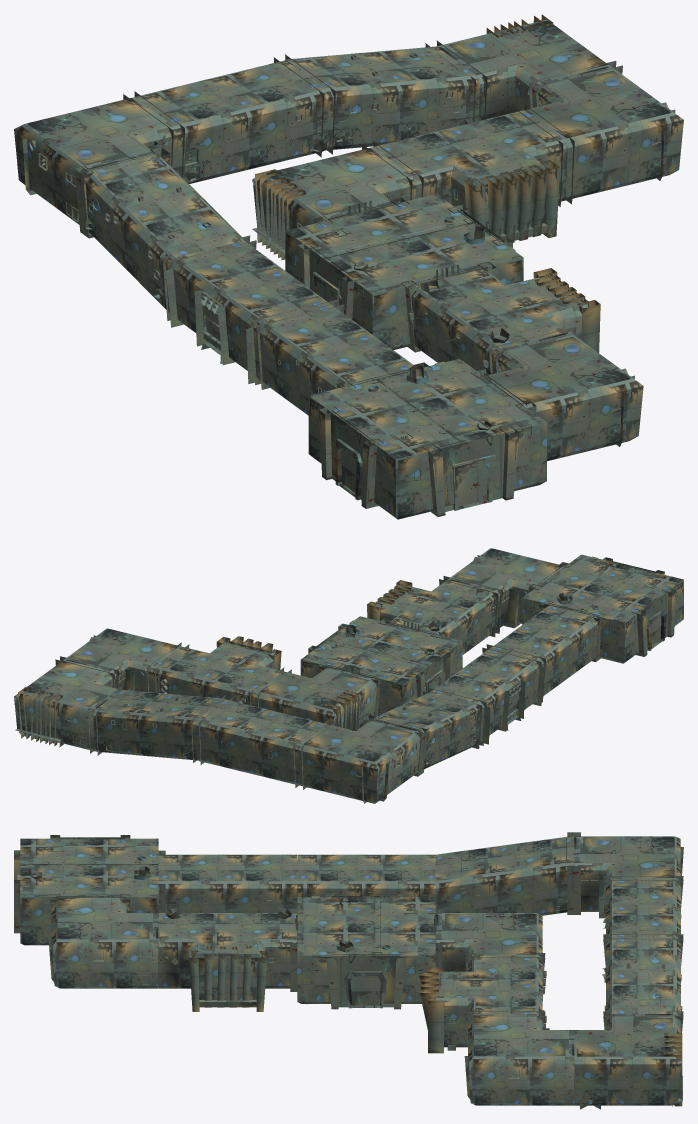
The model's file is Combined_Mesh_root_scene_b20ae4d5__zombies2_diffuse_02_6de118bf_c1f257.obj.
3 views of the same model, one above another, from view 1: azimuth 30°, elevation 25°; view 2: azimuth 150°, elevation 25°; view 3: azimuth 270°, elevation 25° (orthographic). The views are drawn at different scales.
Bounding box in the file's own units: 77.06 × 11.5 × 96.9.
Materials: 233 (233 with a texture image).
